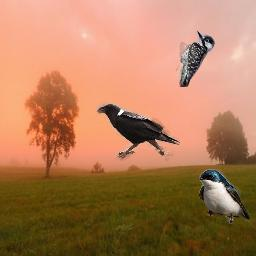Crow: (96, 102, 180, 161)
Swallow: (199, 169, 251, 224)
Woodpecker: (169, 29, 215, 87)
